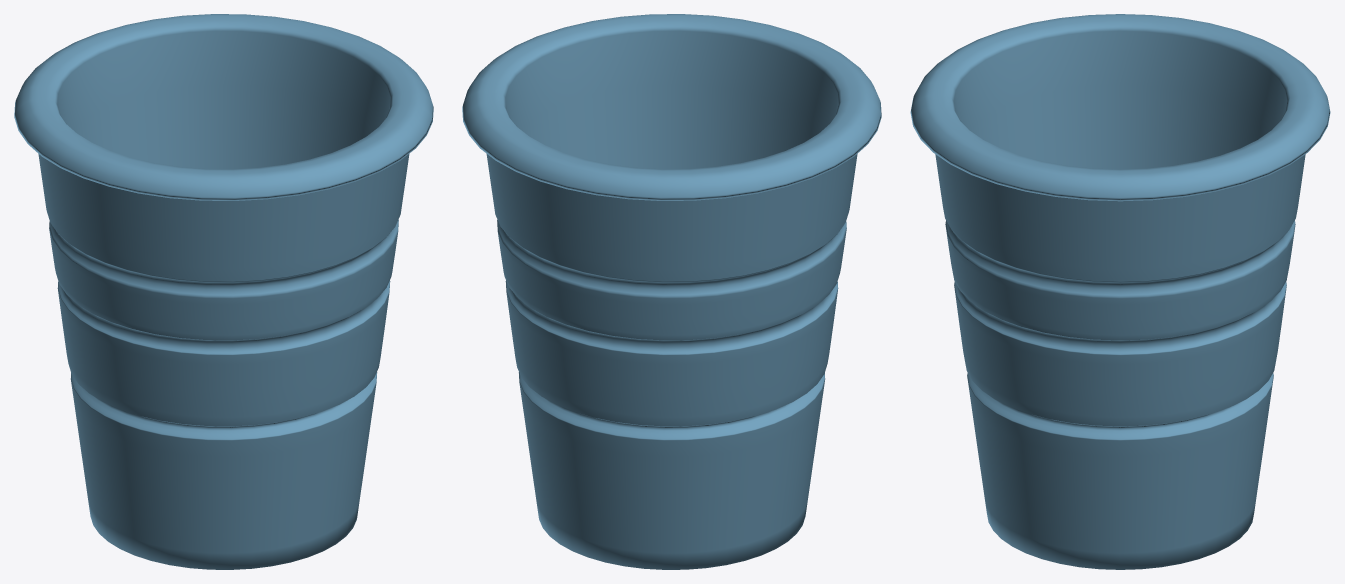
The model's file is PlasticCup.fbx.
3 renders of one model, left to right at view 1: azimuth 30°, elevation 25°; view 2: azimuth 150°, elevation 25°; view 3: azimuth 270°, elevation 25°, orthographic.
Visible parts, largest first — view 1: pCylinder1; view 2: pCylinder1; view 3: pCylinder1.
Part boxes in pixels (box(x1,y1,x2,y2)): pCylinder1: box(14, 14, 433, 569); pCylinder1: box(462, 14, 881, 569); pCylinder1: box(910, 14, 1330, 569).
Bounding box in the file's own units: 3.25 × 3.57 × 3.25.
